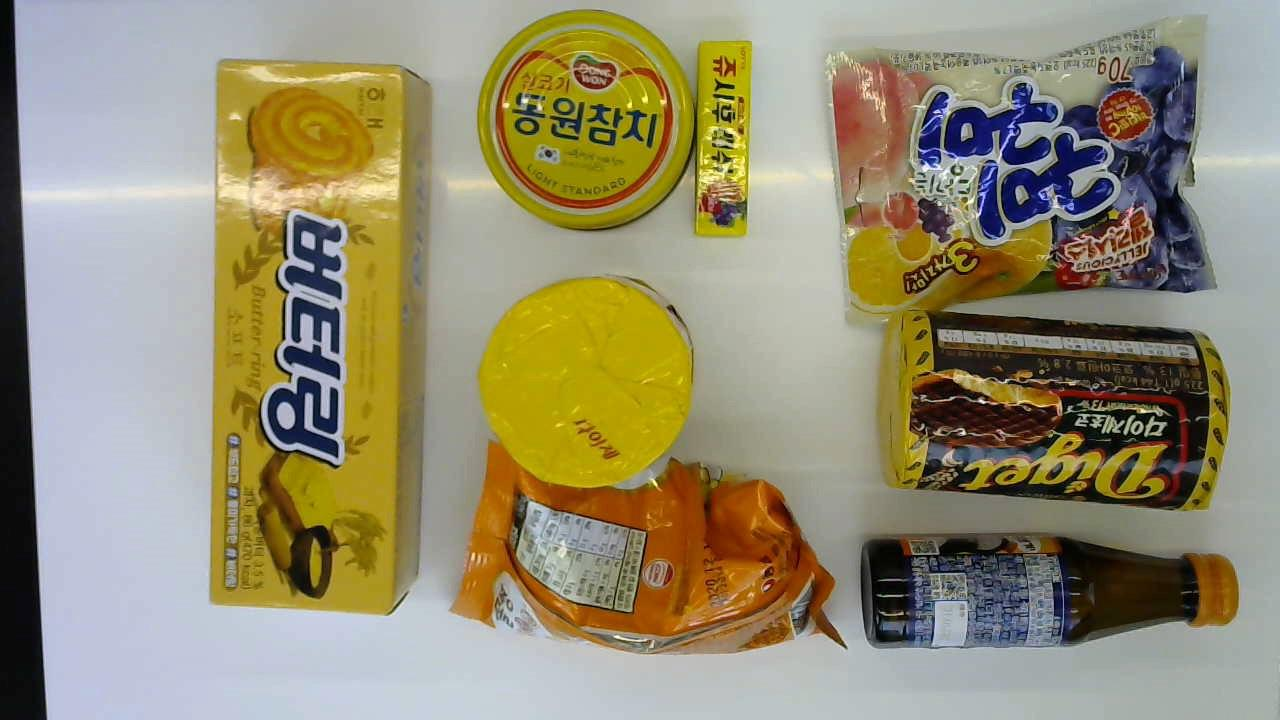buttering: (208, 56, 423, 614)
diget_choco: (877, 308, 1224, 511)
diget_ori: (478, 275, 691, 479)
gumi_gumi: (822, 13, 1212, 317)
jjolbyung_noodle: (445, 462, 841, 652)
juicyfresh: (693, 38, 752, 236)
tuna: (476, 8, 691, 232)
vita500: (859, 531, 1243, 644)
